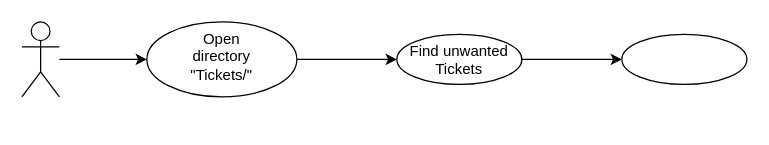
The diagram is 769 pixels wide and 145 high, and some of its shapes have lost their labels. Each missing label, with the centre of its shape:
"Actor" goes at (x=40, y=59).
"Removes manually" goes at (x=684, y=58).
